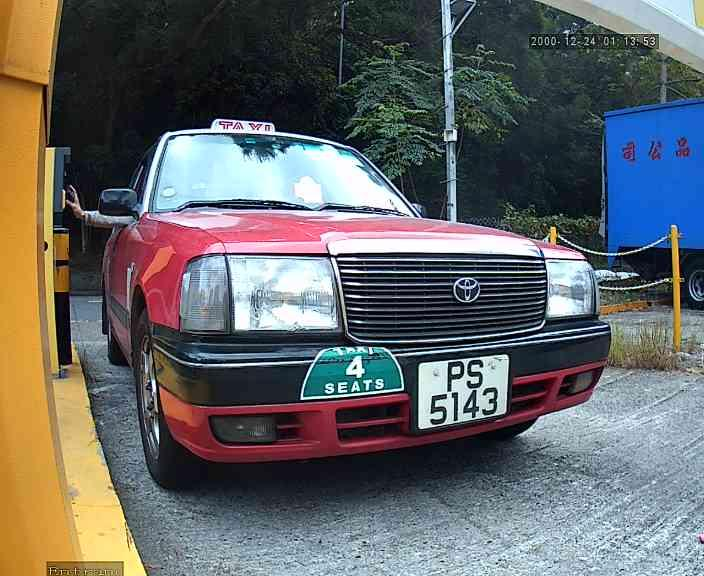Car: (60, 21, 639, 505)
License Plate: (403, 353, 516, 427)
